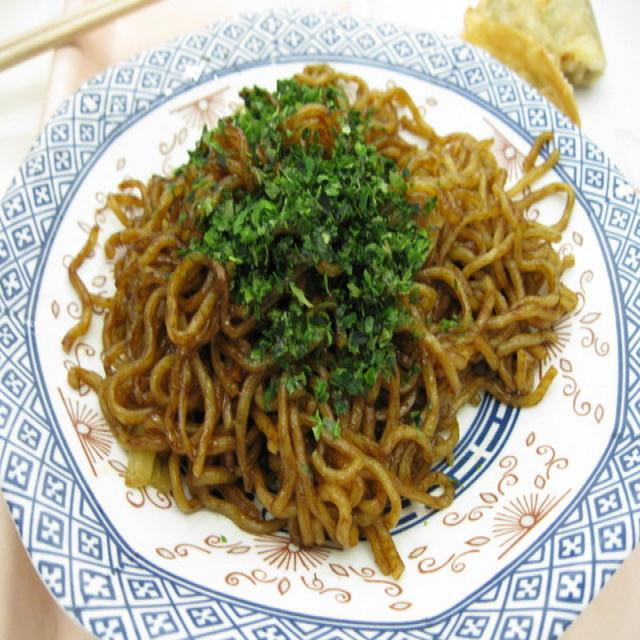面条主食: (64, 64, 584, 555)
